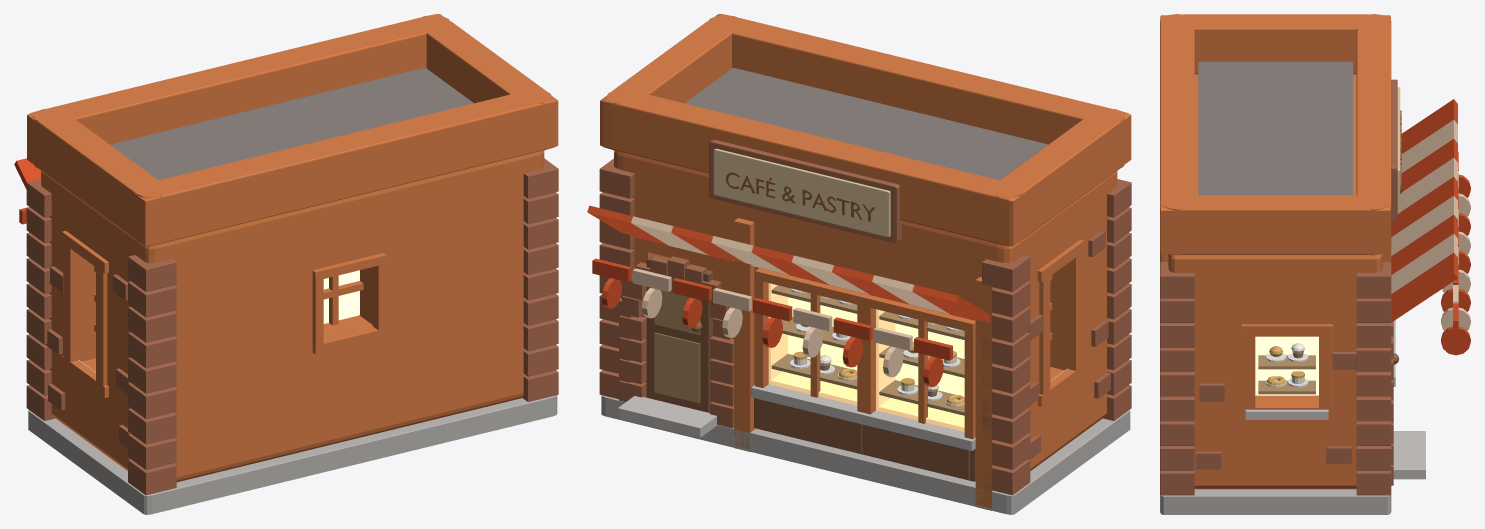
Rendered from 01-cafe-building.glb.
3 views of the same model, side by side, from view 1: azimuth 30°, elevation 25°; view 2: azimuth 150°, elevation 25°; view 3: azimuth 270°, elevation 25° (orthographic). The views are drawn at different scales.
Visible parts, largest first — view 1: Walls, ParapetB, ParapetF, Deck, Slab, ParapetL, ParapetR, LWinFrameR, LWinFrameL, Quoin1_8, Quoin1_2, Quoin1_7 (+31 smaller); view 2: Walls, ParapetF, ParapetB, Deck, Slab, SignPlaque, ParapetL, ParapetR, Pilaster1, Pilaster0, SignBorder, Bay0BaseIn (+72 smaller); view 3: Walls, Deck, ParapetR, ParapetL, ParapetF, ParapetB, Slab, RWinBack, DoorStep, AwningS5, AwningS6, AwningS7 (+43 smaller).
Boxes of the visible parts, x1,y1,x2,y2 form: Walls: [41, 151, 544, 482]; ParapetB: [128, 90, 558, 246]; ParapetF: [27, 14, 443, 171]; Deck: [110, 68, 473, 180]; Slab: [28, 395, 557, 514]; ParapetL: [37, 118, 162, 239]; ParapetR: [426, 21, 546, 103]; LWinFrameR: [63, 235, 78, 370]; LWinFrameL: [96, 259, 107, 394]; Quoin1_8: [128, 255, 176, 291]; Quoin1_2: [128, 408, 176, 444]; Quoin1_7: [128, 281, 176, 317]; Walls: [614, 151, 1117, 470]; ParapetF: [600, 90, 1029, 246]; ParapetB: [714, 14, 1131, 169]; Deck: [684, 68, 1048, 180]; Slab: [601, 395, 1130, 514]; SignPlaque: [713, 148, 890, 236]; ParapetL: [995, 118, 1121, 239]; ParapetR: [612, 21, 735, 103]; Pilaster1: [975, 277, 994, 510]; Pilaster0: [734, 218, 754, 451]; SignBorder: [709, 139, 901, 242]; Bay0BaseIn: [758, 399, 862, 453]; Walls: [1168, 74, 1382, 489]; Deck: [1198, 61, 1352, 195]; ParapetR: [1179, 195, 1371, 254]; ParapetL: [1183, 14, 1368, 74]; ParapetF: [1356, 15, 1391, 253]; ParapetB: [1160, 15, 1194, 253]; Slab: [1160, 489, 1391, 514]; RWinBack: [1255, 336, 1318, 395]; DoorStep: [1393, 431, 1425, 479]; AwningS5: [1391, 196, 1457, 255]; AwningS6: [1391, 215, 1457, 274]; AwningS7: [1391, 234, 1457, 293].
Bounding box in the file's own units: 4.01 × 2.92 × 2.69.
